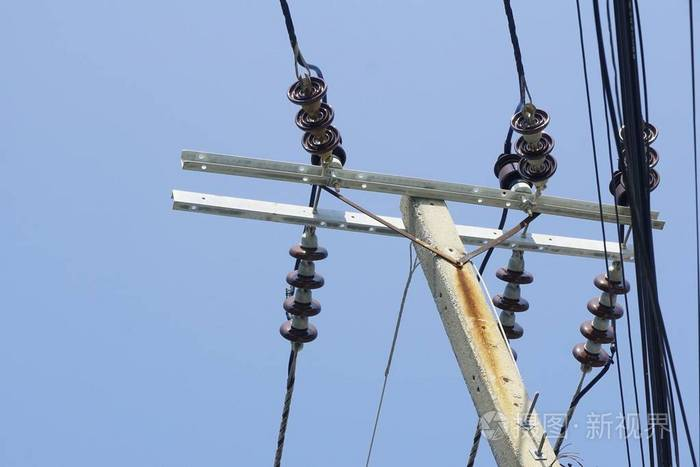insulator: (279, 244, 330, 346), (574, 272, 628, 367), (287, 76, 342, 155), (511, 110, 559, 184), (492, 265, 534, 345), (619, 120, 660, 195)
